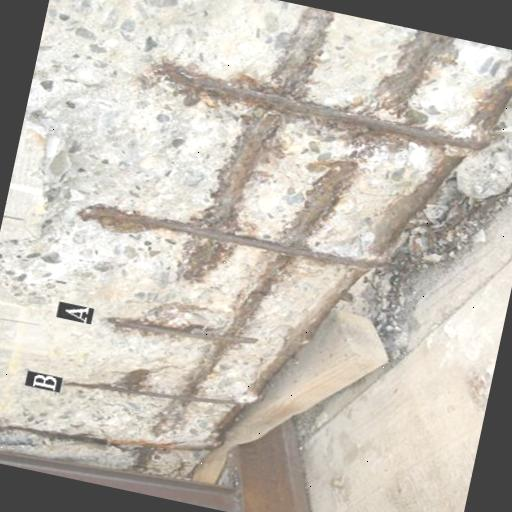spalling: (0, 0, 512, 480)
